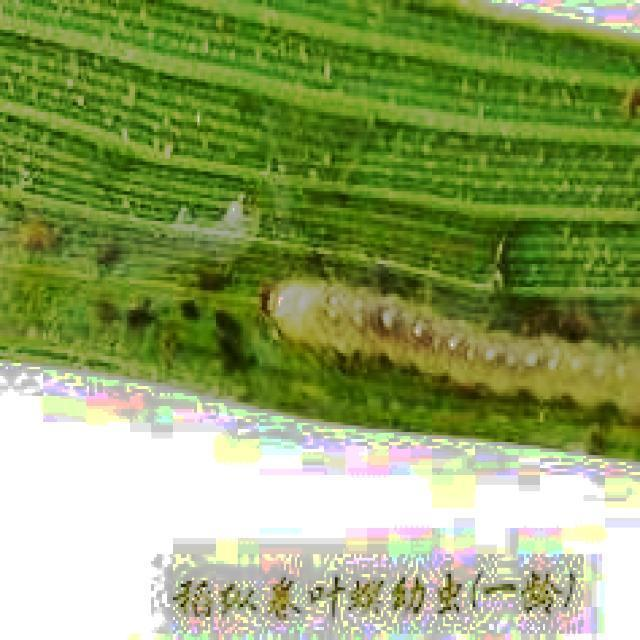leaf-folder: (216, 198, 640, 495)
